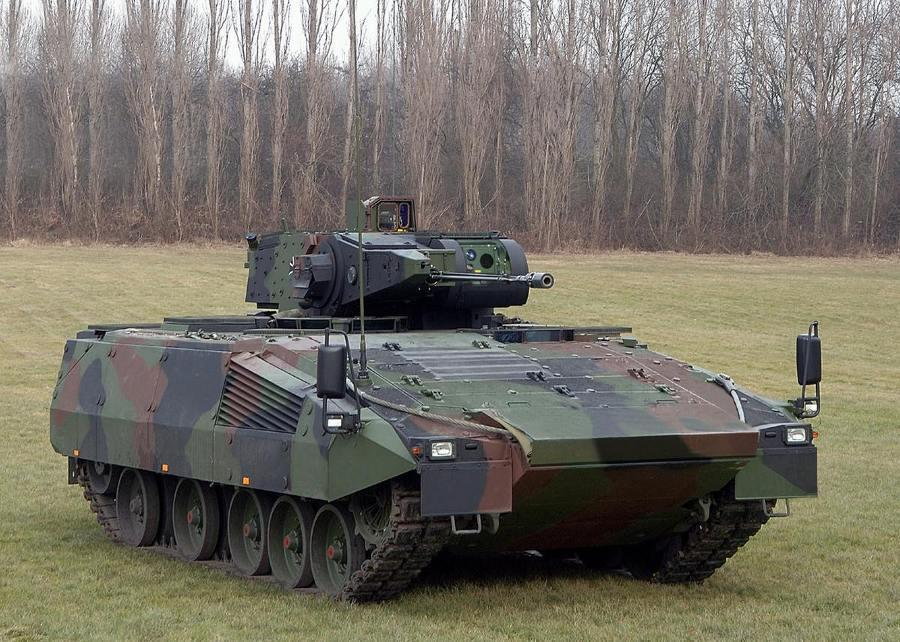MIL_IFV: (46, 191, 827, 605)
